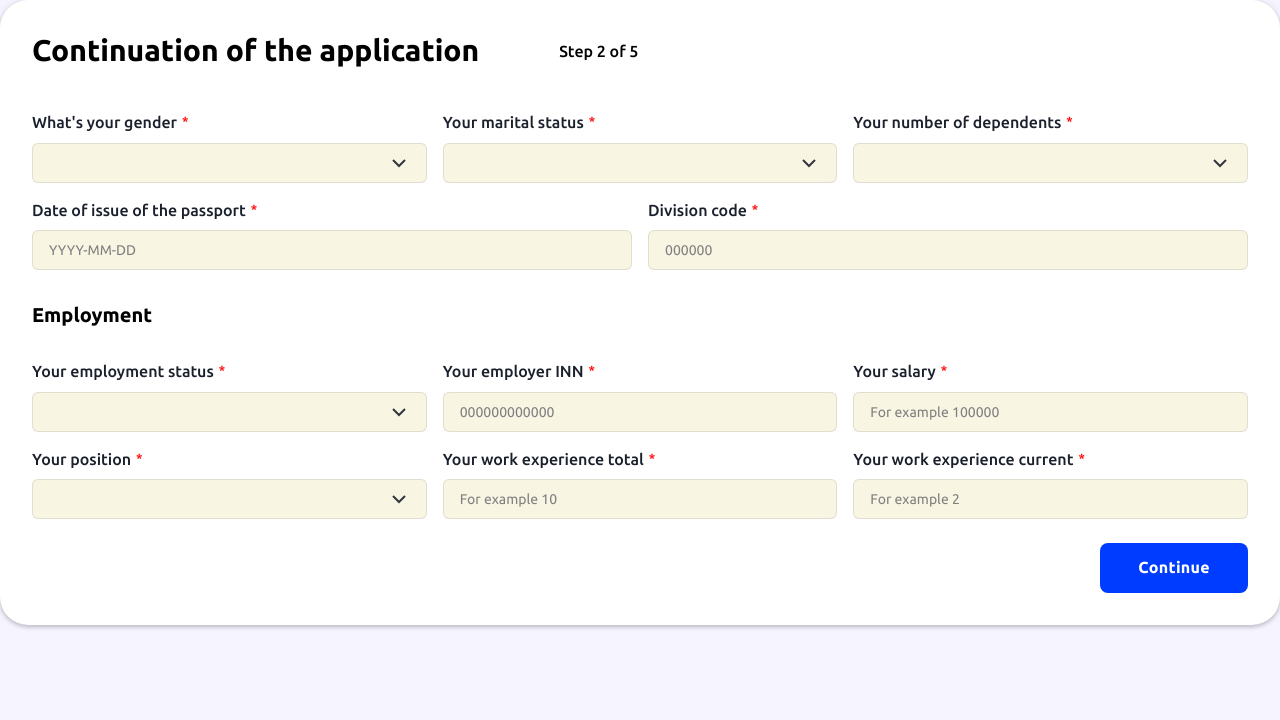
Test: Input text into number field
Type "1d4" into the field with placeholder "000000" at point(948, 250), box [648,230,1248,270]
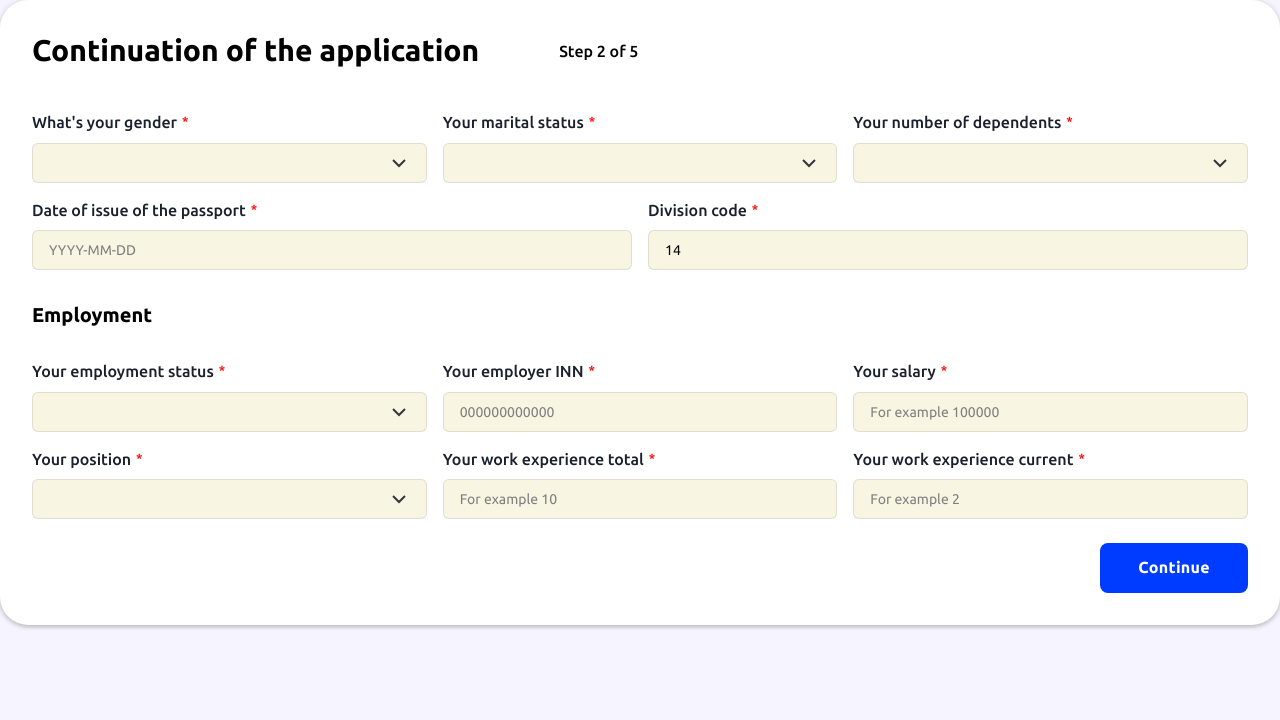
Now the field with placeholder "000000" holds "14", box [648,230,1248,270]
